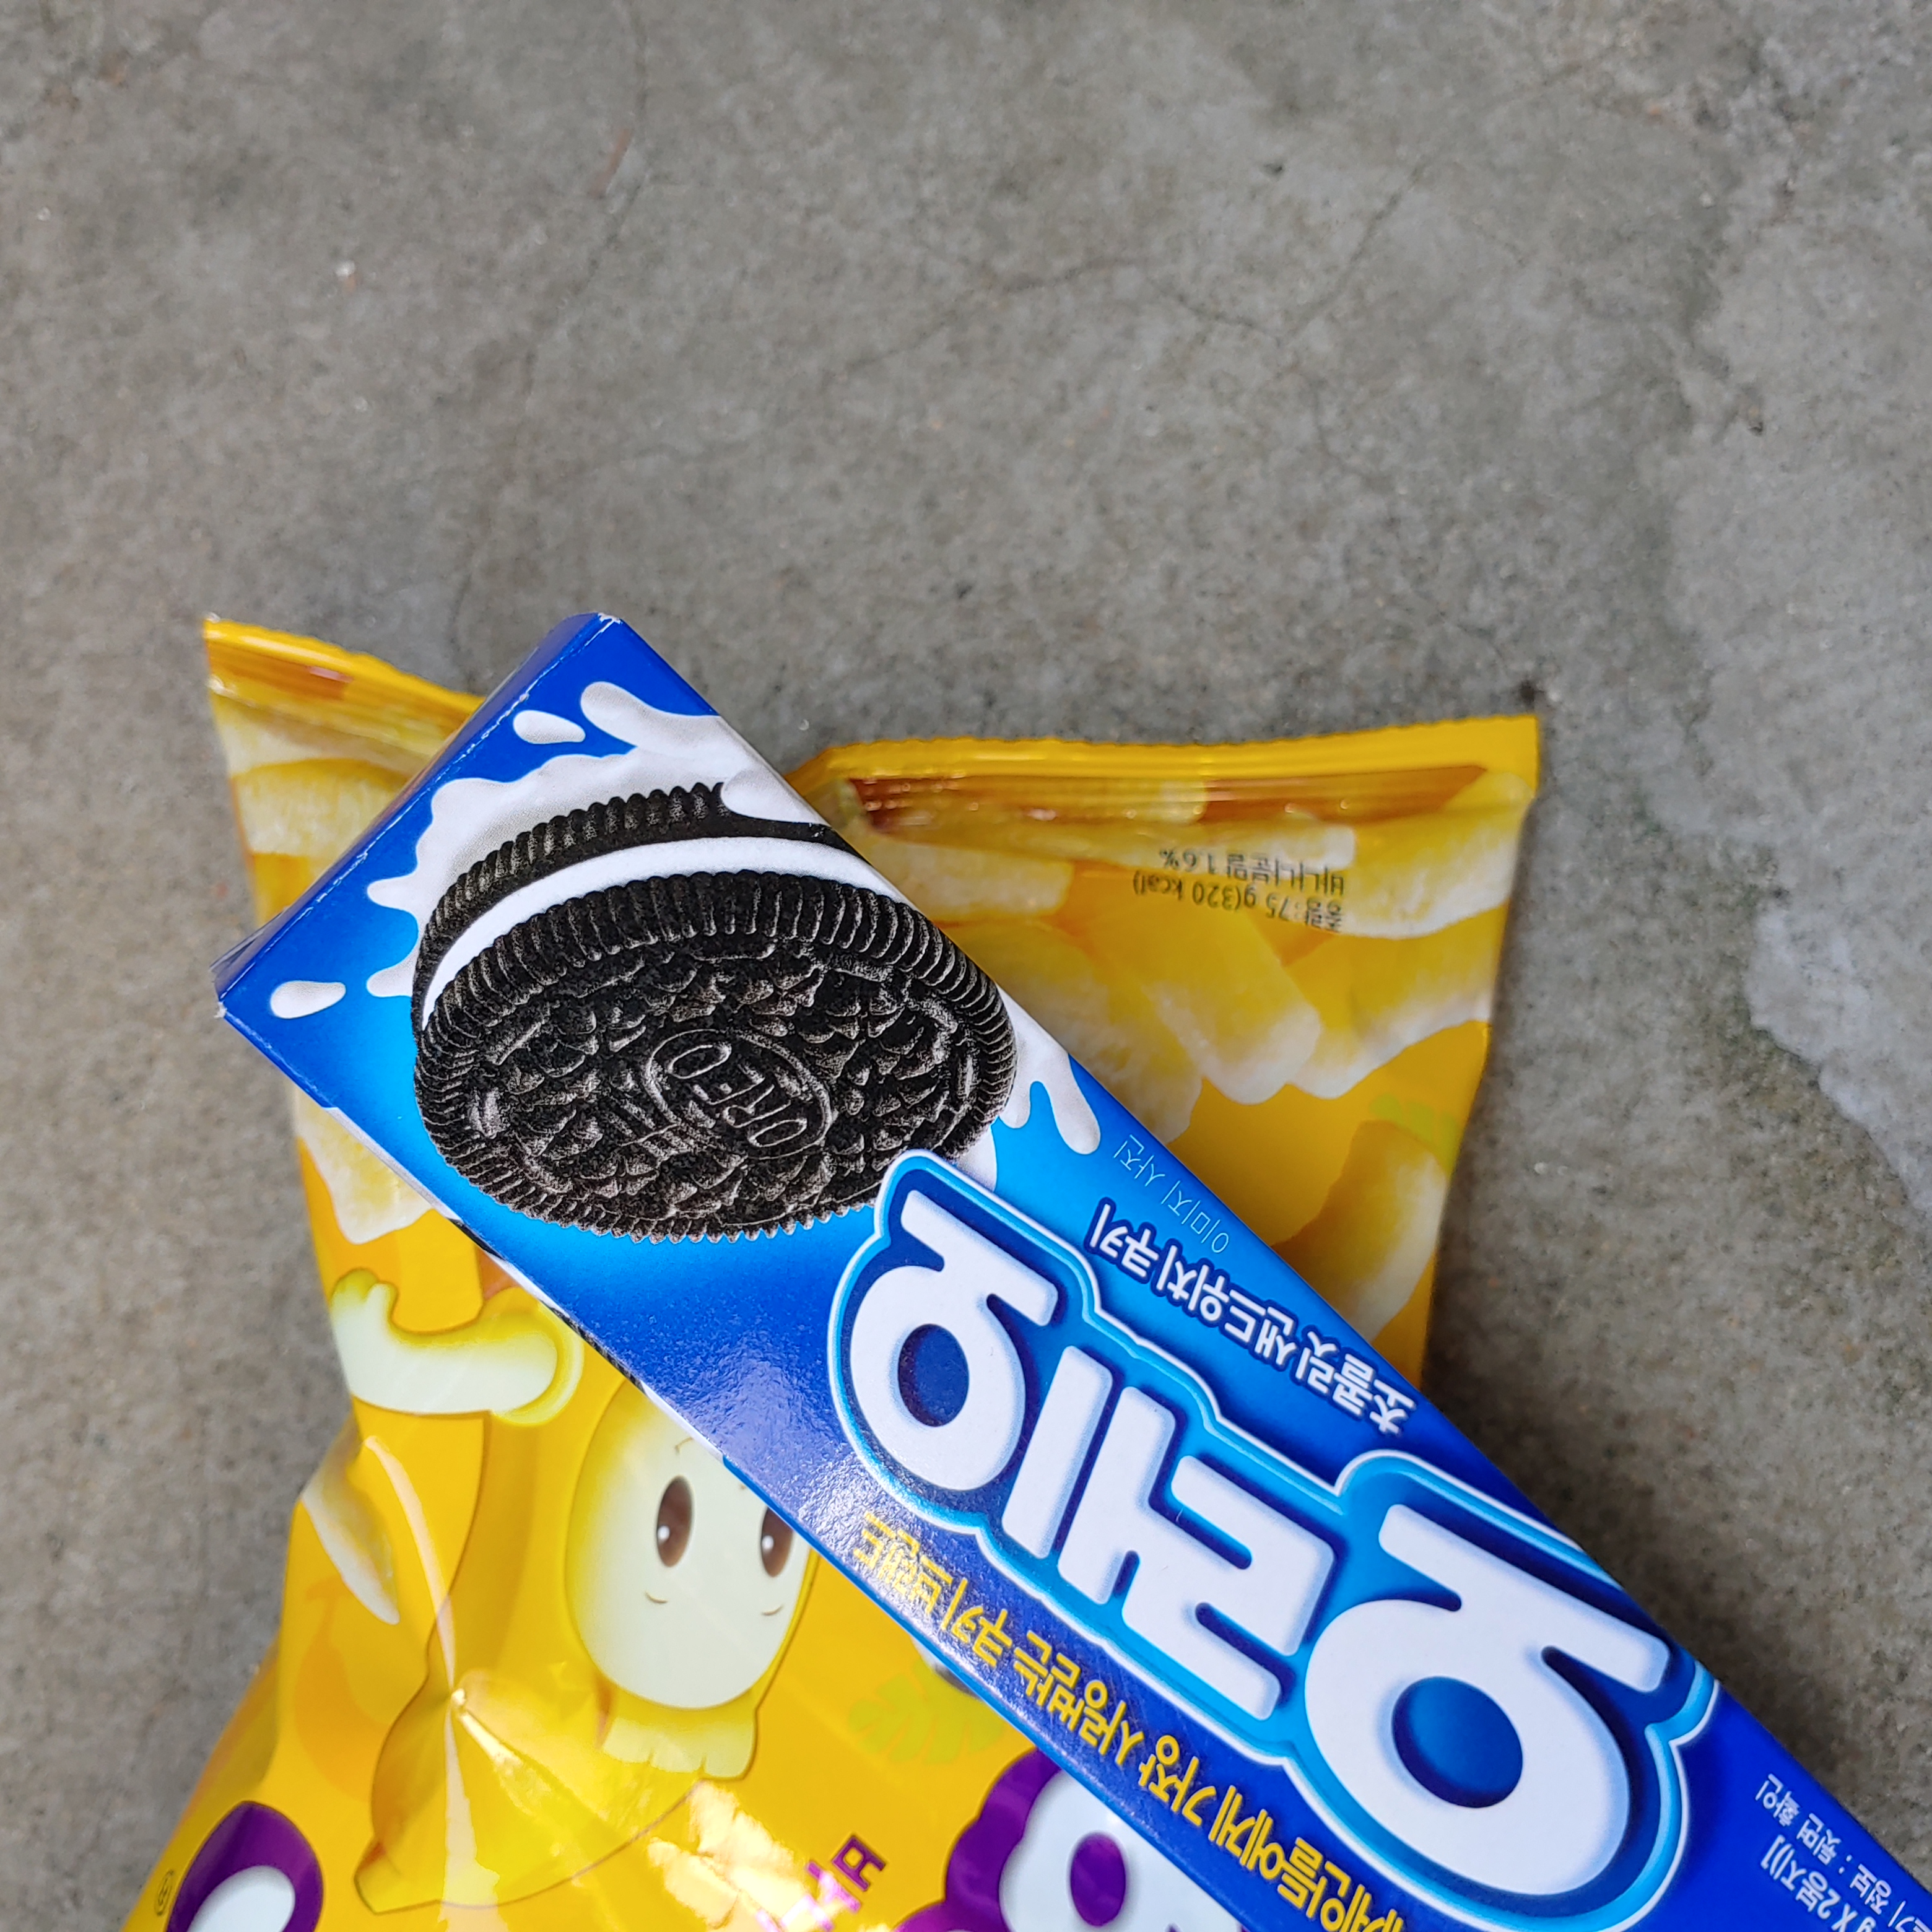banana: (28, 483, 1665, 1932)
oreo: (159, 593, 1932, 1921)
